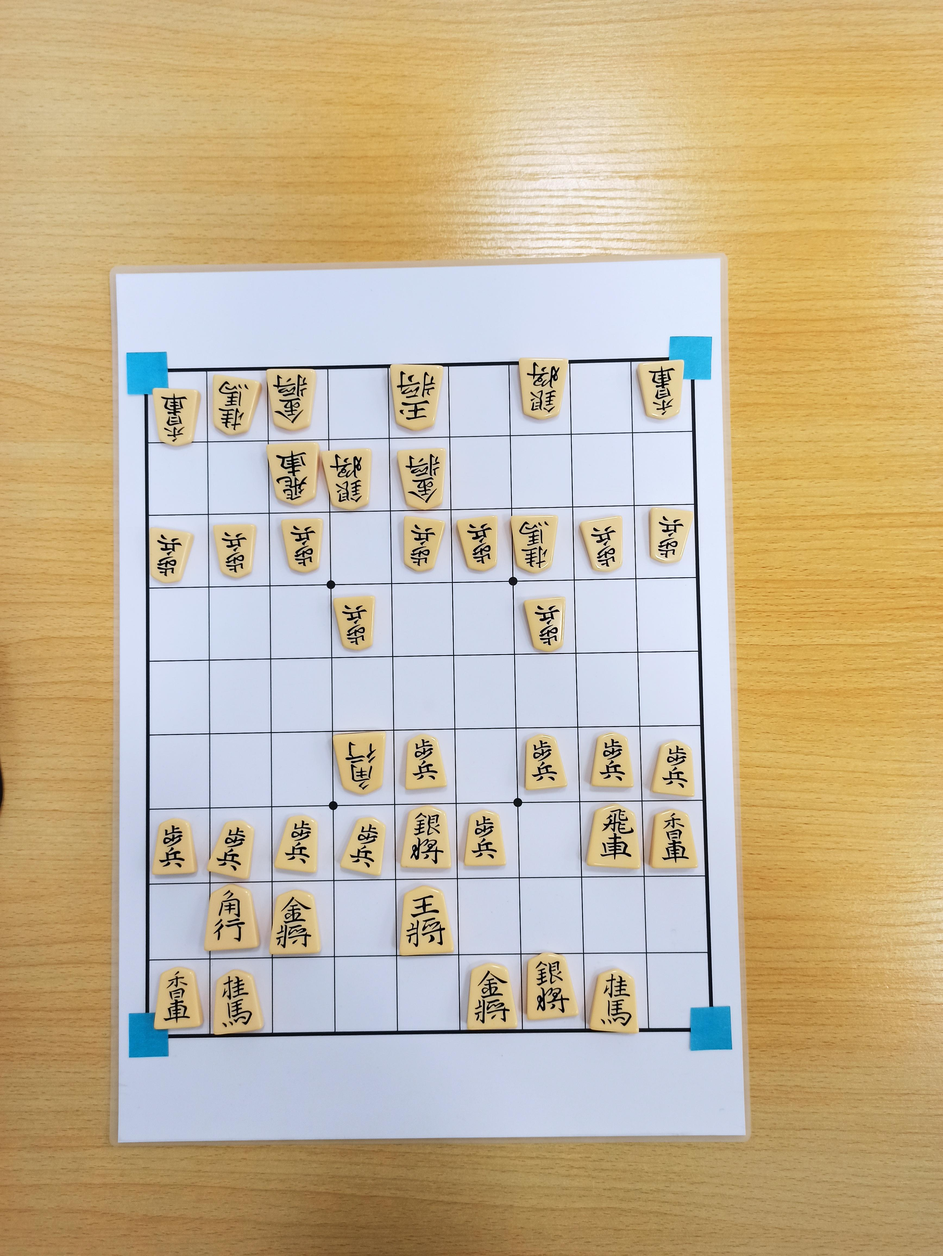board: (147, 359, 712, 1036)
